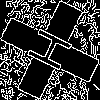H: (25, 25, 83, 78)
